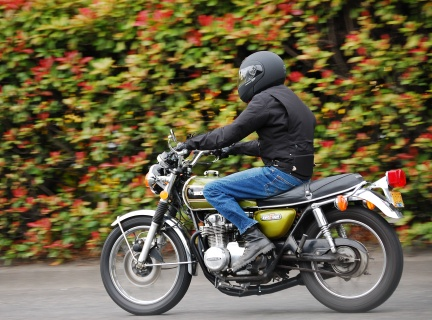helmet: (219, 41, 316, 131)
